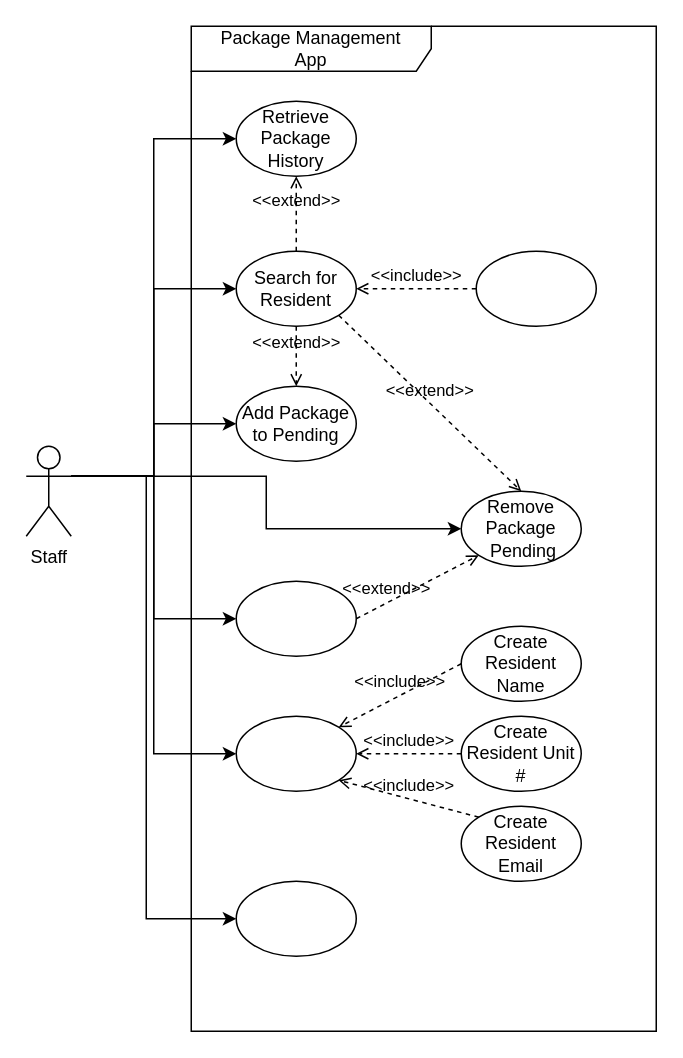
Some shapes in this 683 by 1058 pixel diagram are drawn without their labels. The shapes that lost their labels are listed below. From the top down, each one's centre as x and y in pixels, then its label:
At point 535,288: "Select Res./PSA".
At point 295,618: "Search for Package".
At point 295,753: "Create Resident".
At point 295,918: "Add Package to Unknown".
